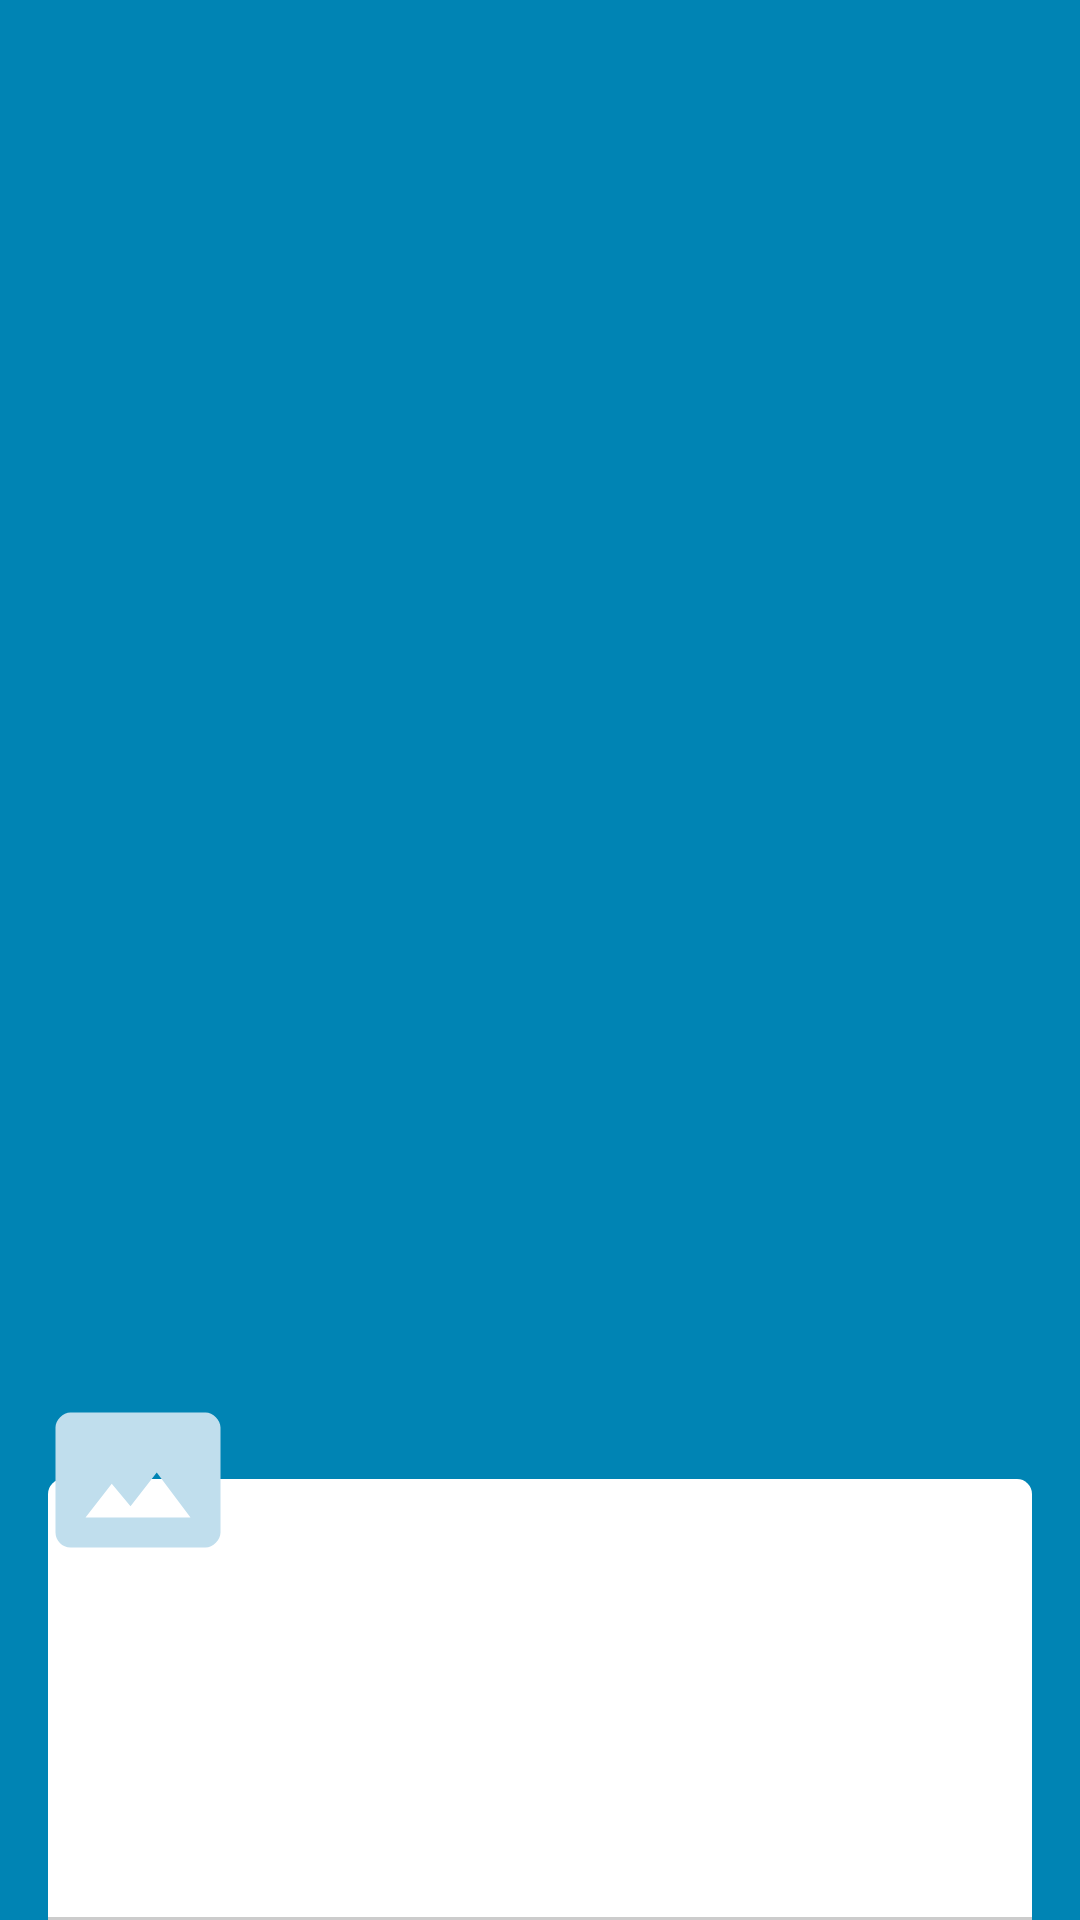

Icons on this 1080w x 1920h Android screen, each with its box as (x1=x1, y1=y1, x2=x2, y2=y2):
Profile image: (x1=48, y1=1412, x2=228, y2=1570)
